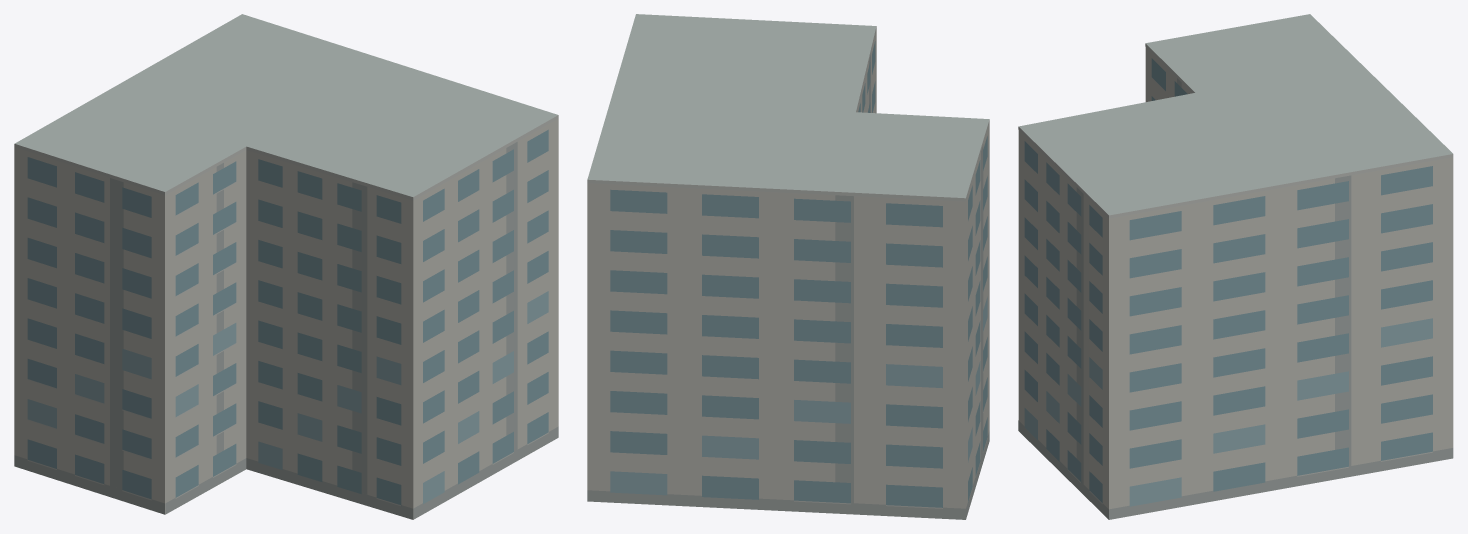
File: survey-upis-32862932.glb
3 renders of one model, left to right at view 1: azimuth 30°, elevation 25°; view 2: azimuth 150°, elevation 25°; view 3: azimuth 270°, elevation 25°, orthographic. The views are drawn at different scales.
Parts seen in each view (by area): view 1: survey-upis-32862932.tmp; view 2: survey-upis-32862932.tmp; view 3: survey-upis-32862932.tmp.
Boxes of the visible parts, x1,y1,x2,y2 form: survey-upis-32862932.tmp: [14, 14, 558, 519]; survey-upis-32862932.tmp: [587, 14, 989, 519]; survey-upis-32862932.tmp: [1018, 14, 1453, 519].
Size of the model in its own units: 32.36 by 22.8 by 29.53.
